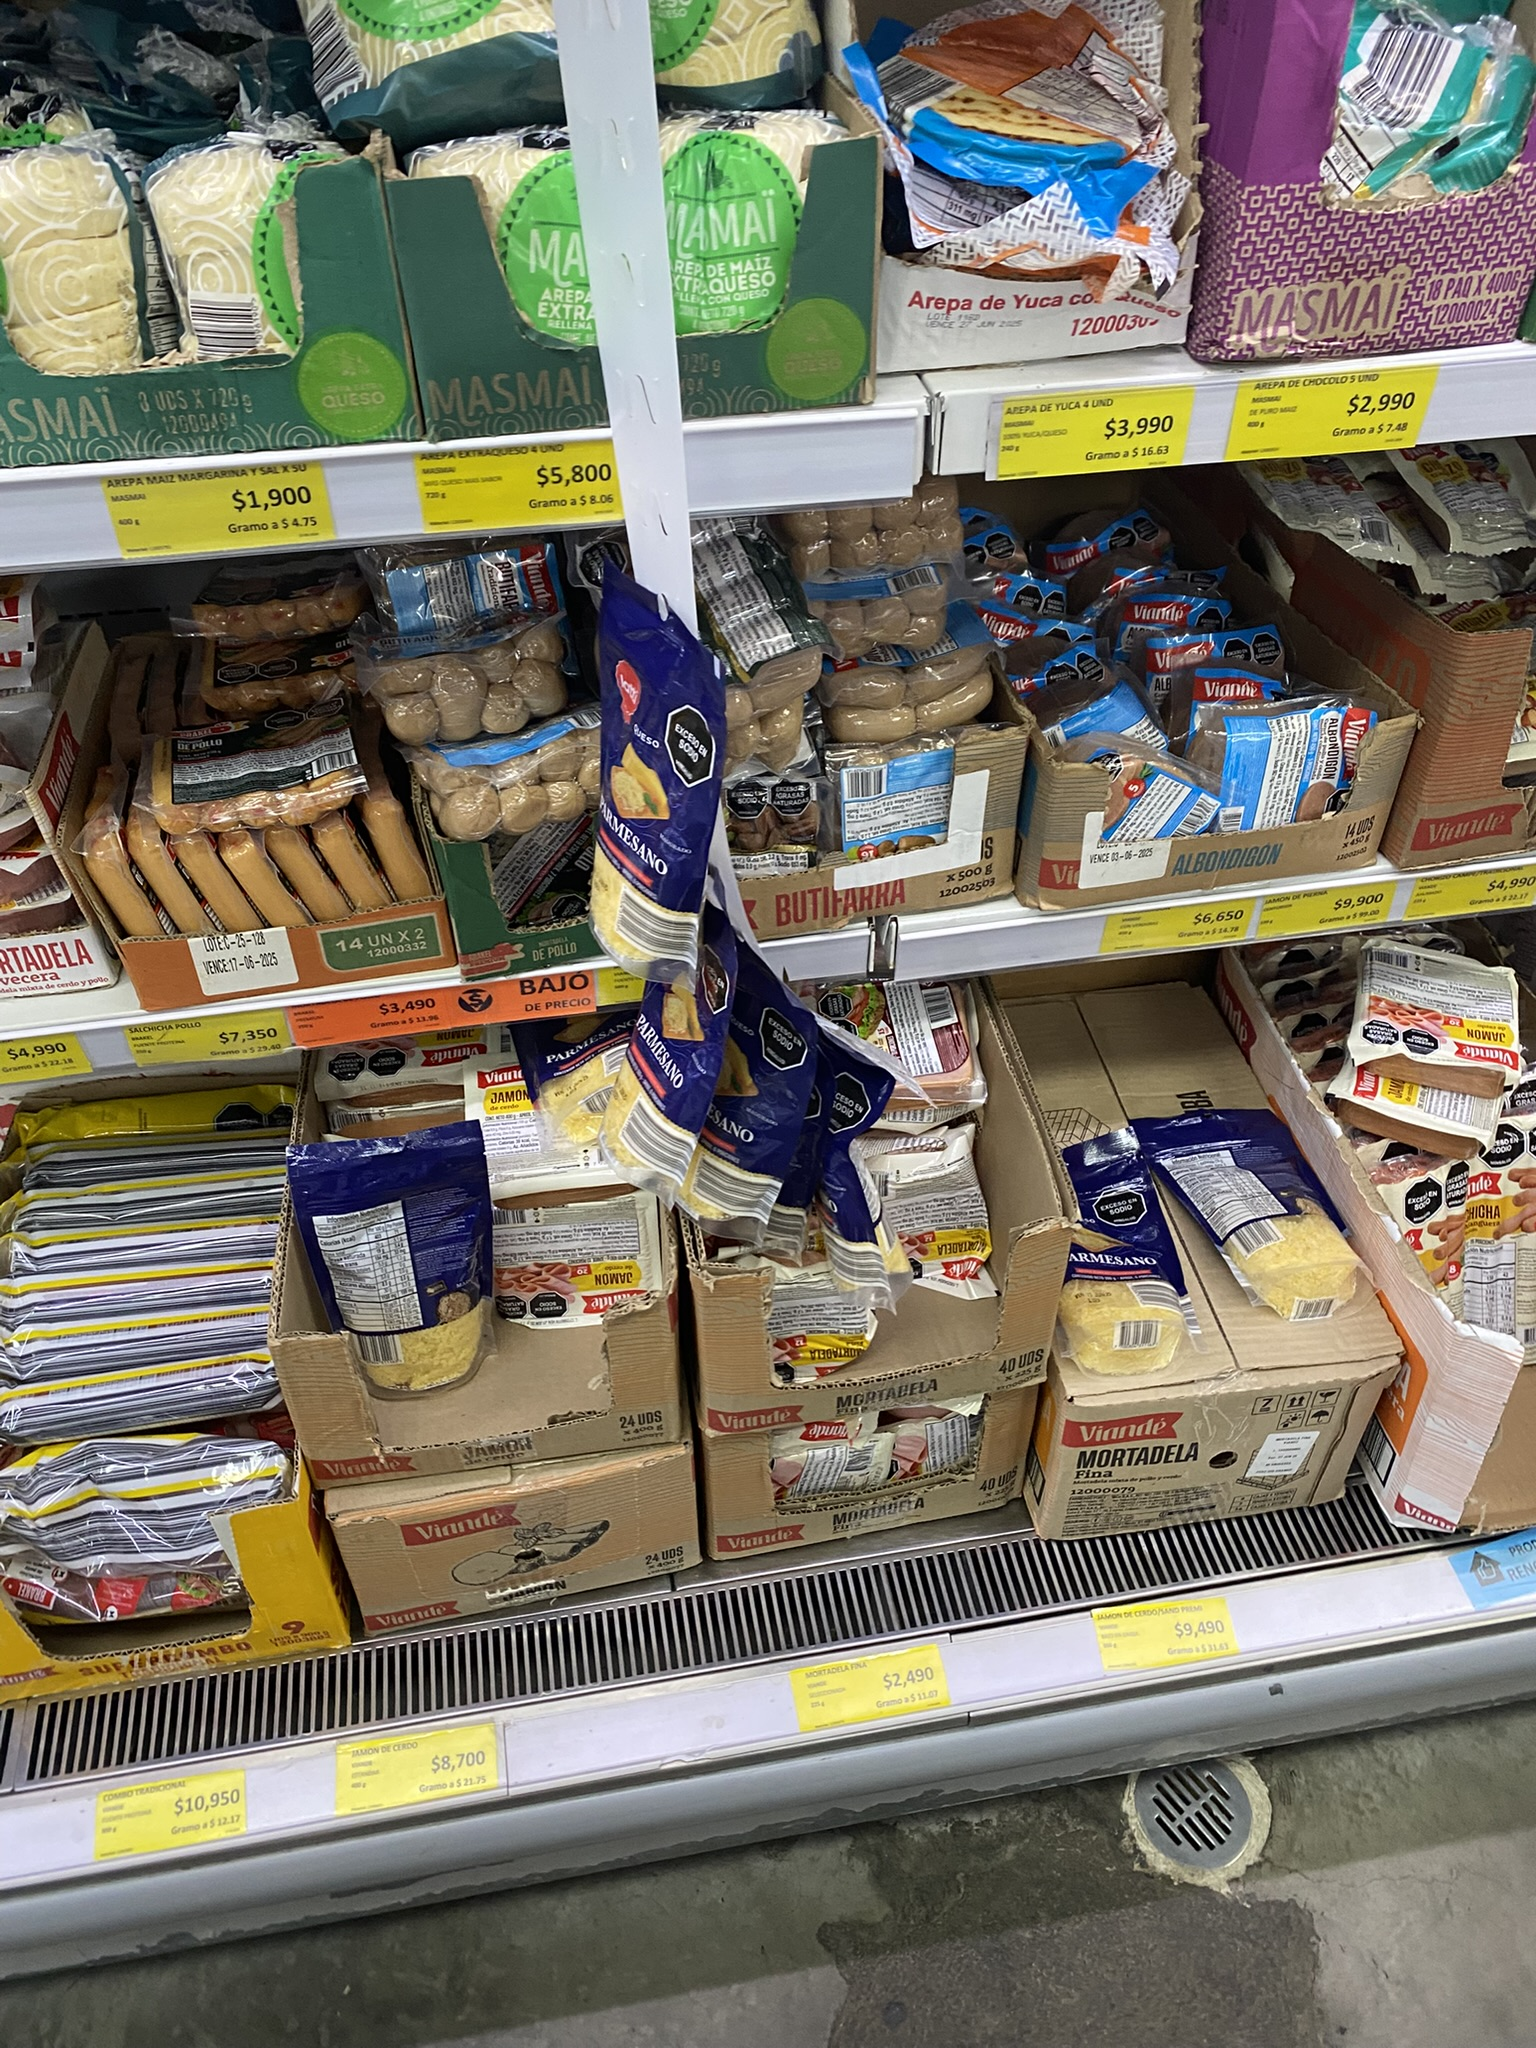Queso Parmesano: (582, 585, 729, 972), (284, 1132, 511, 1380), (1136, 1113, 1396, 1306), (1033, 1132, 1208, 1364), (618, 906, 729, 1195), (710, 968, 808, 1227), (813, 1050, 900, 1295)
